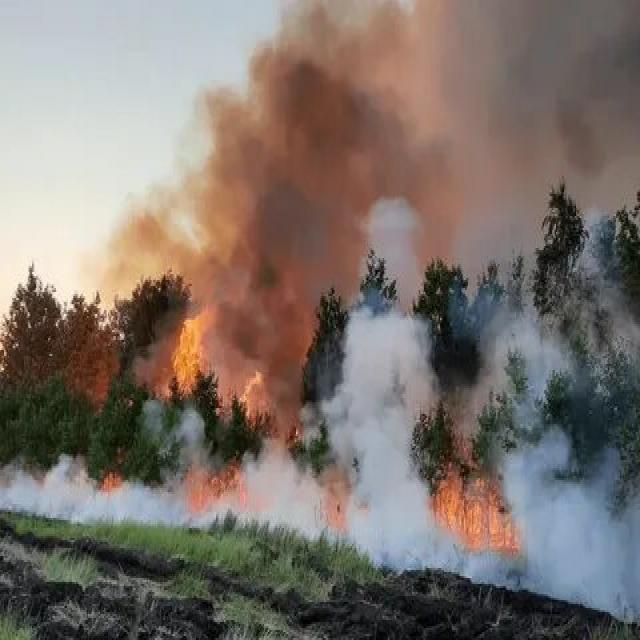Fire: (416, 402, 536, 576), (142, 306, 252, 417)
Smoke: (0, 0, 640, 301), (0, 433, 640, 616)
